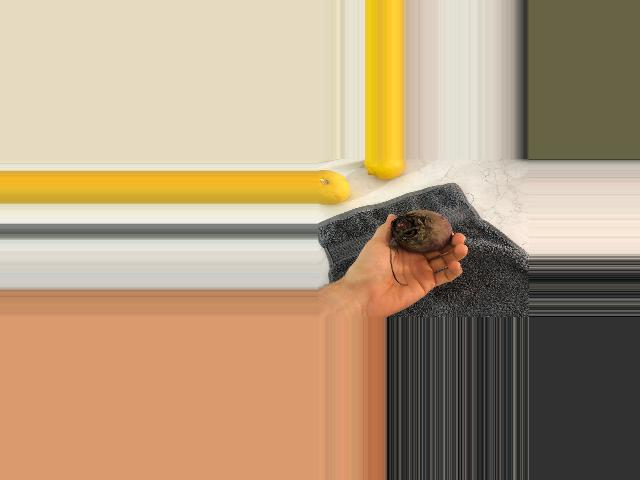beet: (392, 209, 453, 285)
